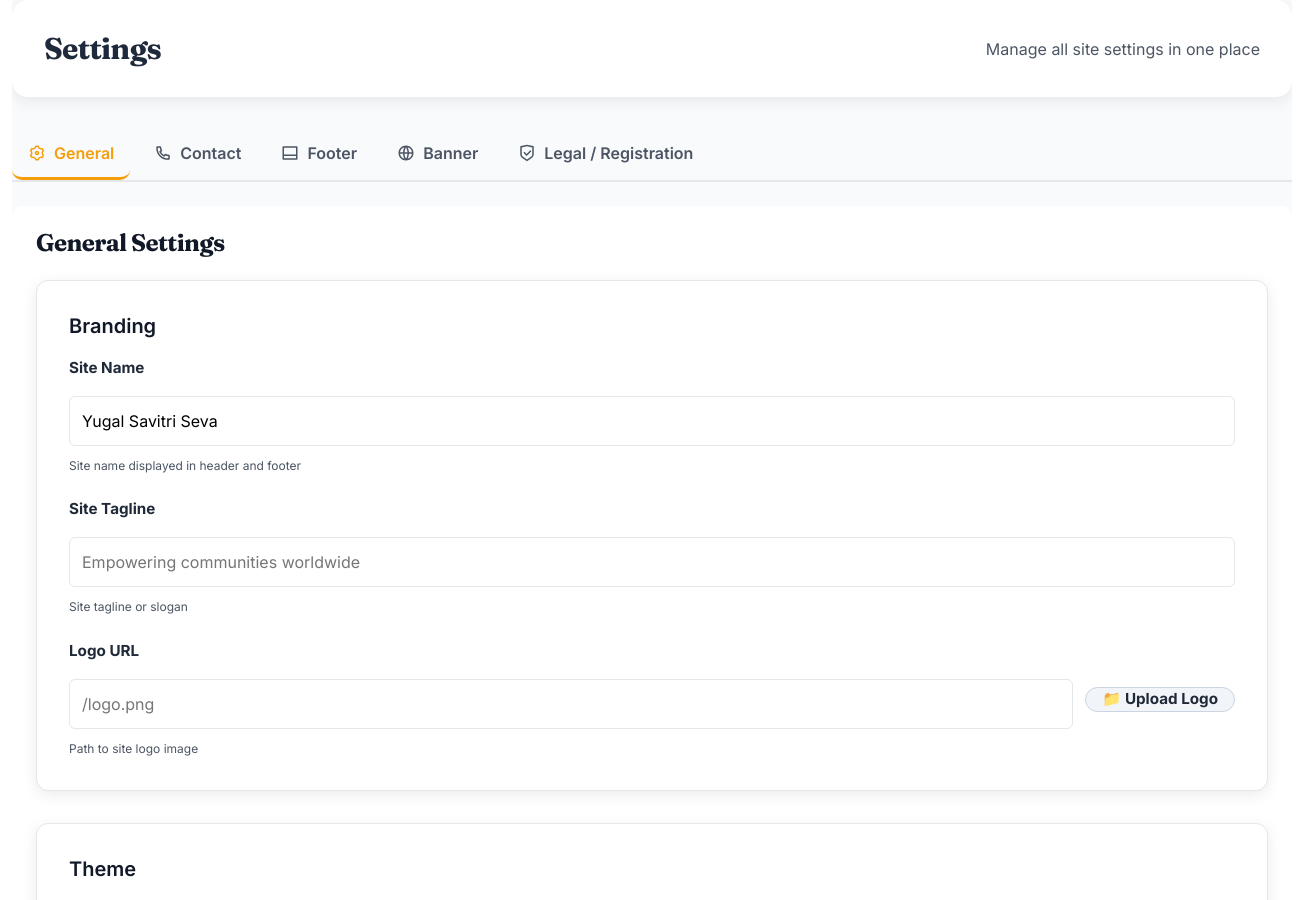
Test: AdminSettingsConsolidated › adds a contact location
Check: the heading "General Settings" is shown, box [36,228,225,257]
Click the button with test id "settings-tab-contact" at coordinates (198, 154), box [138,129,258,180]
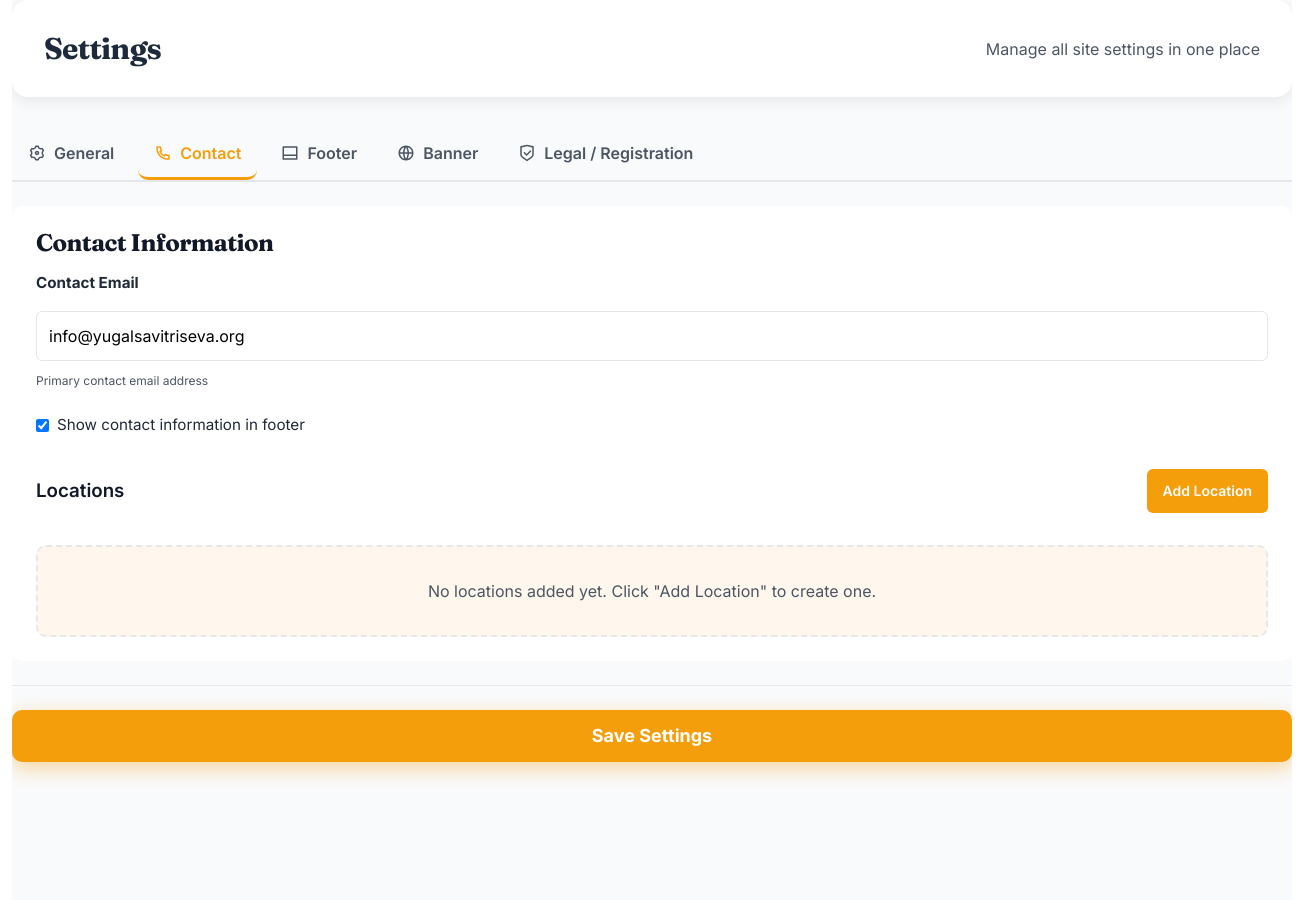
Check: the heading "Contact Information" is shown, box [36,228,273,257]
Click the button "Add Location" at coordinates (1207, 491), box [1146,469,1268,513]
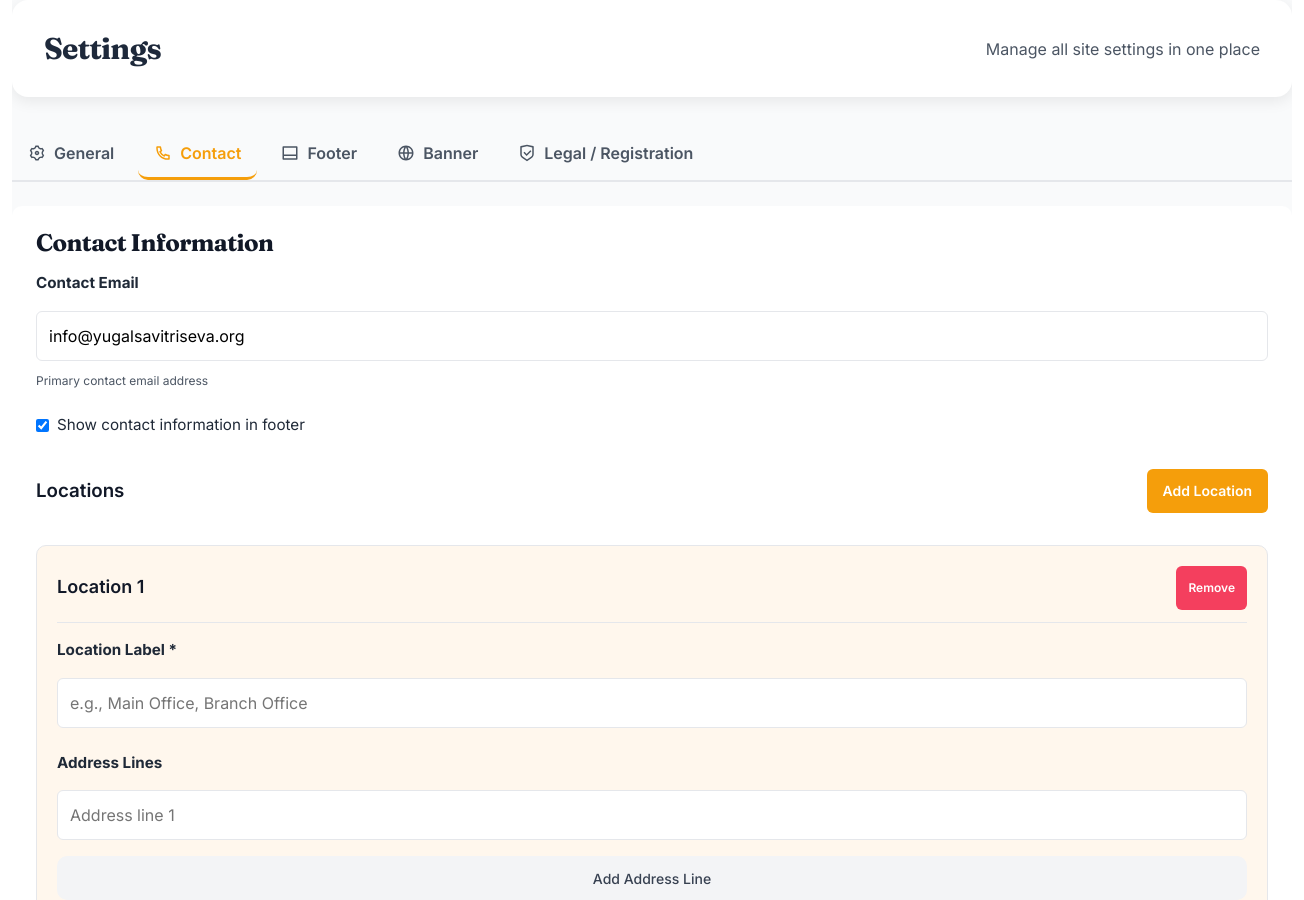
Check: the field with placeholder "e.g., Main Office, Branch Office" is shown, box [57,678,1247,728]
